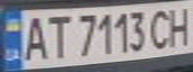1: (93, 9, 115, 55), (112, 9, 133, 54)
3: (127, 8, 151, 52)
7: (72, 10, 96, 57)
A: (18, 12, 51, 61)
C: (148, 6, 175, 49)
H: (163, 3, 193, 47)
T: (42, 11, 72, 61)
